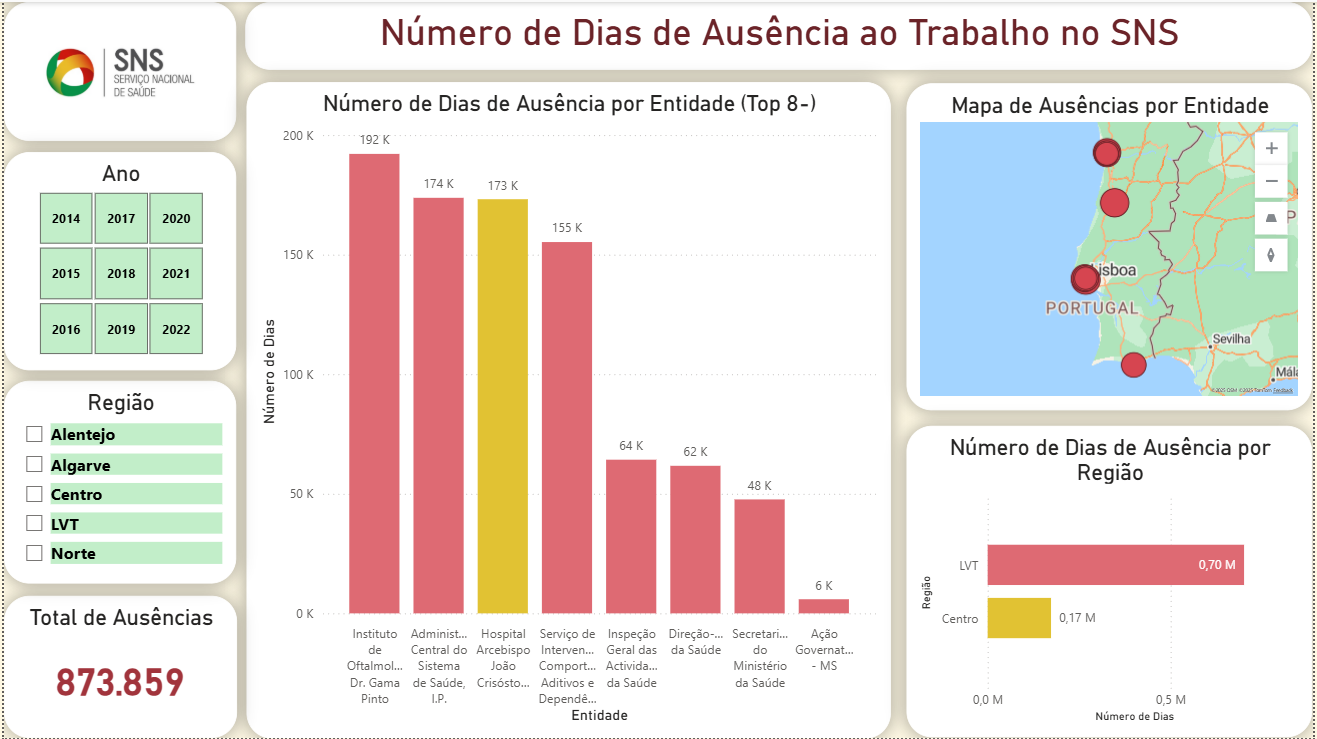

This screenshot's page, from the dashboard's own definition file:
{"tool":"powerbi","page":{"name":"Dashboard_Top8-","canvas":[1280,720],"ordinal":2},"visuals":[{"type":"textbox","title":"Número de Dias de Ausência ao Trabalho no SNS","box":[236.2,0,1043.8,66.2],"z":0},{"type":"image","box":[0,0,227.5,136.2],"z":1000},{"type":"columnChart","title":"Número de Dias de Ausência por Entidade (Top 8-)","fields":{"Category":["DimEntidade.Entidade"],"Y":["FactNumDiasAusência.NúmDiasAusência"]},"box":[237,78,630,642],"z":2000},{"type":"azureMap","title":"Mapa de Ausências por Entidade","fields":{"Y":["DimEntidade.Latitude"],"X":["DimEntidade.Longitude"],"Size":["FactNumDiasAusência.NúmDiasAusência"]},"box":[883,79,397,320],"z":3000},{"type":"card","title":"Total de Ausências","fields":{"Values":["FactNumDiasAusência.NúmDiasAusência"]},"box":[0,581,228,139],"z":4000},{"type":"slicer","title":"Região","fields":{"Values":["DimRegião.Região"]},"box":[0,370,227.5,198.8],"z":5000},{"type":"slicer","title":"Ano","fields":{"Values":["DimTempo.Ano"]},"box":[0,146.2,227.5,213.8],"z":6000},{"type":"barChart","title":"Número de Dias de Ausência por Região","fields":{"Category":["DimRegião.Região"],"Y":["FactNumDiasAusência.NúmDiasAusência"]},"box":[883,415,397,305],"z":7000}]}

Visuals, with their boxes in screenshot pixels (x1, y1, x2, y2), scaled from the page's 1280x720 canvas onto the 1317x739 screenshot:
"Número de Dias de Ausência ao Trabalho no SNS" textbox: left=243, top=0, right=1316, bottom=68
image: left=0, top=0, right=234, bottom=140
"Número de Dias de Ausência por Entidade (Top 8-)" columnChart: left=244, top=80, right=892, bottom=738
"Mapa de Ausências por Entidade" azureMap: left=909, top=81, right=1316, bottom=410
"Total de Ausências" card: left=0, top=596, right=235, bottom=738
"Região" slicer: left=0, top=380, right=234, bottom=584
"Ano" slicer: left=0, top=150, right=234, bottom=369
"Número de Dias de Ausência por Região" barChart: left=909, top=426, right=1316, bottom=738
